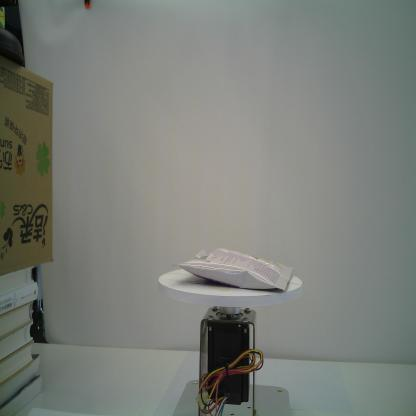Instant Drink: (176, 248, 296, 291)
